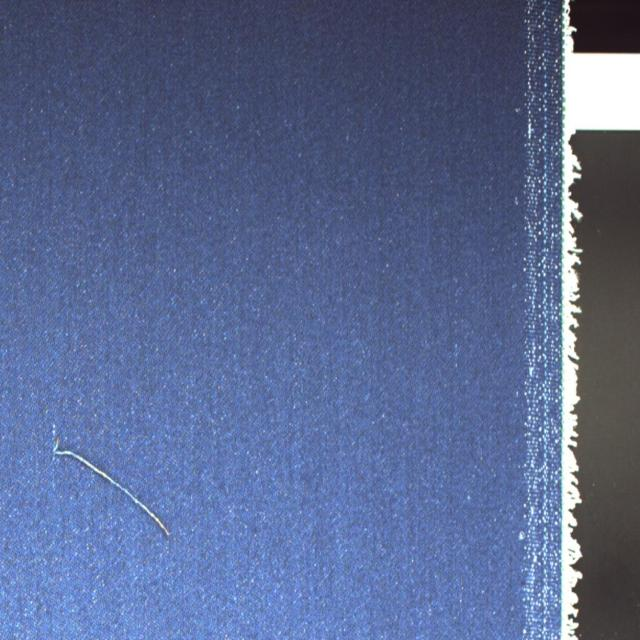Thread: (47, 436, 176, 545)
